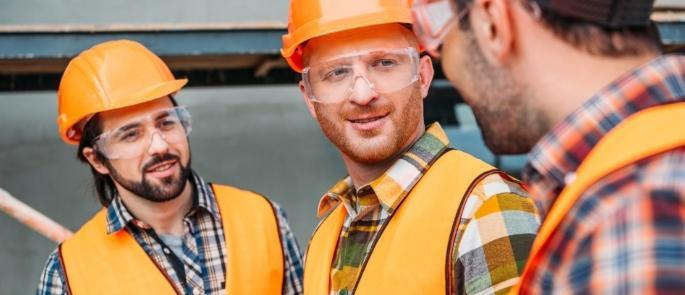hardhat: (57, 39, 189, 141)
worker: (281, 1, 543, 295), (35, 37, 306, 295)
